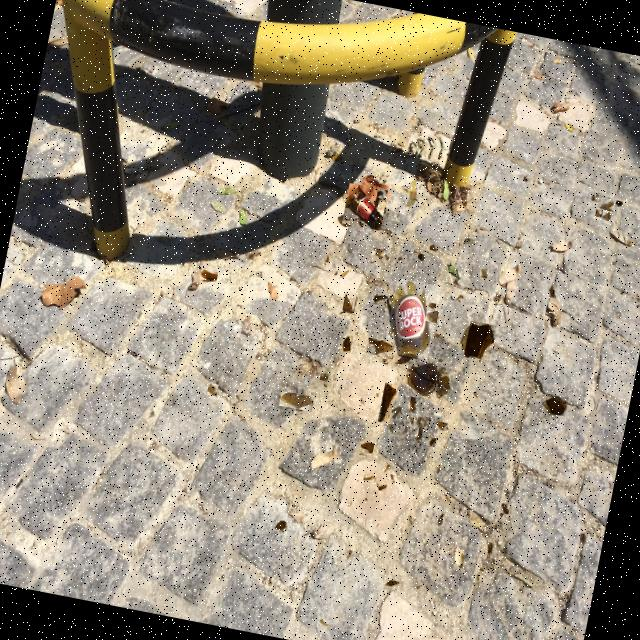Broken glass: (407, 364, 440, 395), (466, 325, 494, 360), (381, 383, 396, 422), (281, 394, 312, 410), (546, 396, 567, 416), (370, 338, 394, 355), (438, 369, 451, 396), (406, 180, 417, 205), (200, 270, 217, 281), (344, 293, 353, 311), (600, 200, 614, 211), (361, 443, 374, 454), (343, 336, 351, 352), (428, 310, 437, 323), (393, 406, 401, 420), (208, 384, 217, 396), (276, 522, 287, 531), (411, 397, 417, 412), (375, 296, 387, 303), (319, 619, 331, 626), (420, 418, 428, 428), (418, 424, 423, 440), (438, 513, 444, 525), (602, 212, 610, 221), (502, 504, 509, 514), (342, 272, 350, 280), (438, 422, 447, 429), (402, 426, 409, 435), (429, 439, 436, 447), (364, 476, 375, 481), (376, 249, 385, 255), (378, 485, 387, 491), (481, 269, 487, 277), (388, 582, 399, 586), (320, 375, 327, 381), (429, 304, 436, 310), (385, 465, 390, 473), (615, 201, 623, 206), (430, 245, 436, 251), (596, 208, 600, 217), (489, 544, 492, 554), (360, 399, 364, 406), (396, 423, 403, 427), (408, 416, 413, 421), (417, 417, 420, 425), (390, 425, 393, 433), (391, 474, 394, 481), (383, 359, 388, 363), (435, 333, 439, 338), (419, 254, 422, 260), (415, 251, 420, 254)
Cigarette: (523, 39, 534, 47)
Glass bottle: (395, 281, 432, 355), (346, 186, 382, 229)
